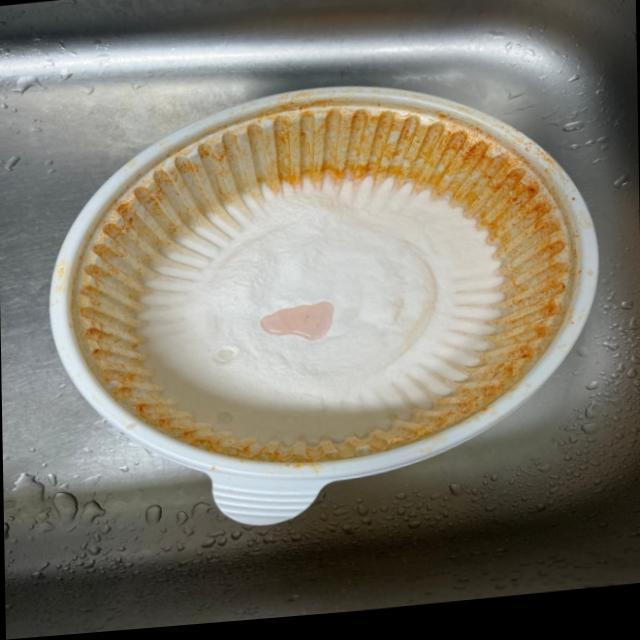container: (20, 74, 627, 536)
